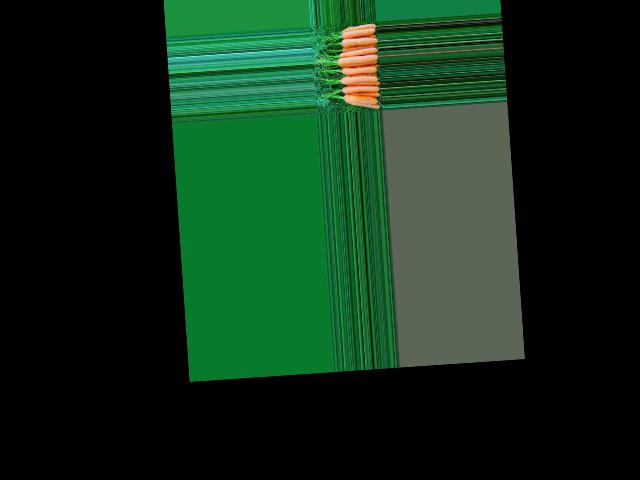carrot: (342, 24, 378, 32)
